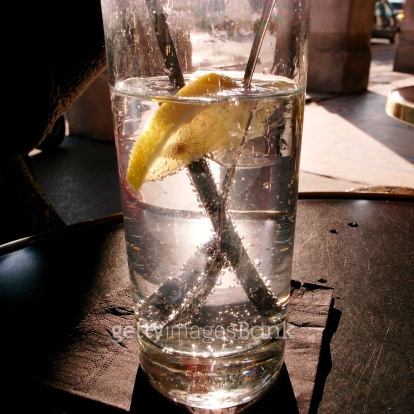glass of water: (106, 1, 308, 411)
